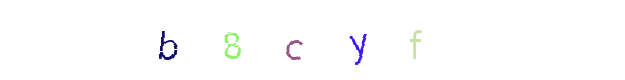8: (225, 0, 305, 80)
B: (126, 0, 206, 80)
C: (260, 0, 340, 80)
F: (319, 0, 399, 80)
Y: (273, 0, 353, 80)
